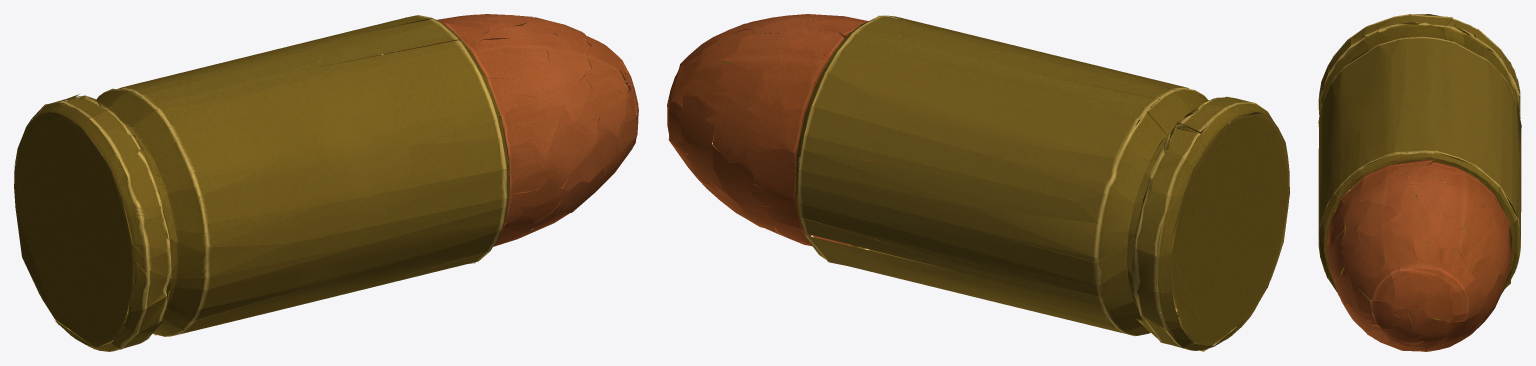
File: ammo_9mm_lod1.glb
3 renders of one model, left to right at view 1: azimuth 30°, elevation 25°; view 2: azimuth 150°, elevation 25°; view 3: azimuth 270°, elevation 25°, orthographic. The views are drawn at different scales.
Parts seen in each view (by area): view 1: LOD1; view 2: LOD1; view 3: LOD1.
Boxes of the visible parts, bbox=[...] form: LOD1: bbox=[14, 14, 638, 351]; LOD1: bbox=[667, 14, 1289, 351]; LOD1: bbox=[1318, 14, 1521, 351].
Bounding box in the file's own units: 0.3814 × 0.1515 × 0.155.
Materials: 1 (1 with a texture image).
